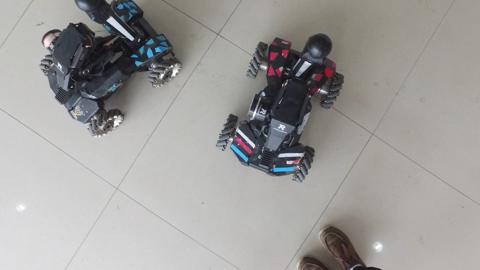chariot: (212, 28, 351, 189), (35, 1, 182, 141)
